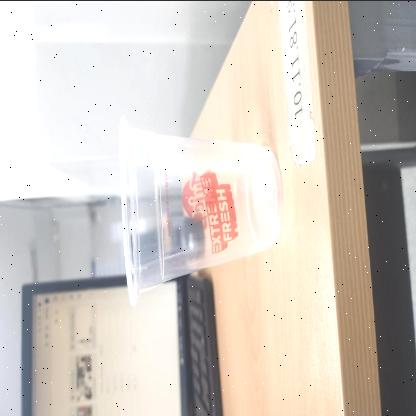Others: (118, 112, 282, 306)
